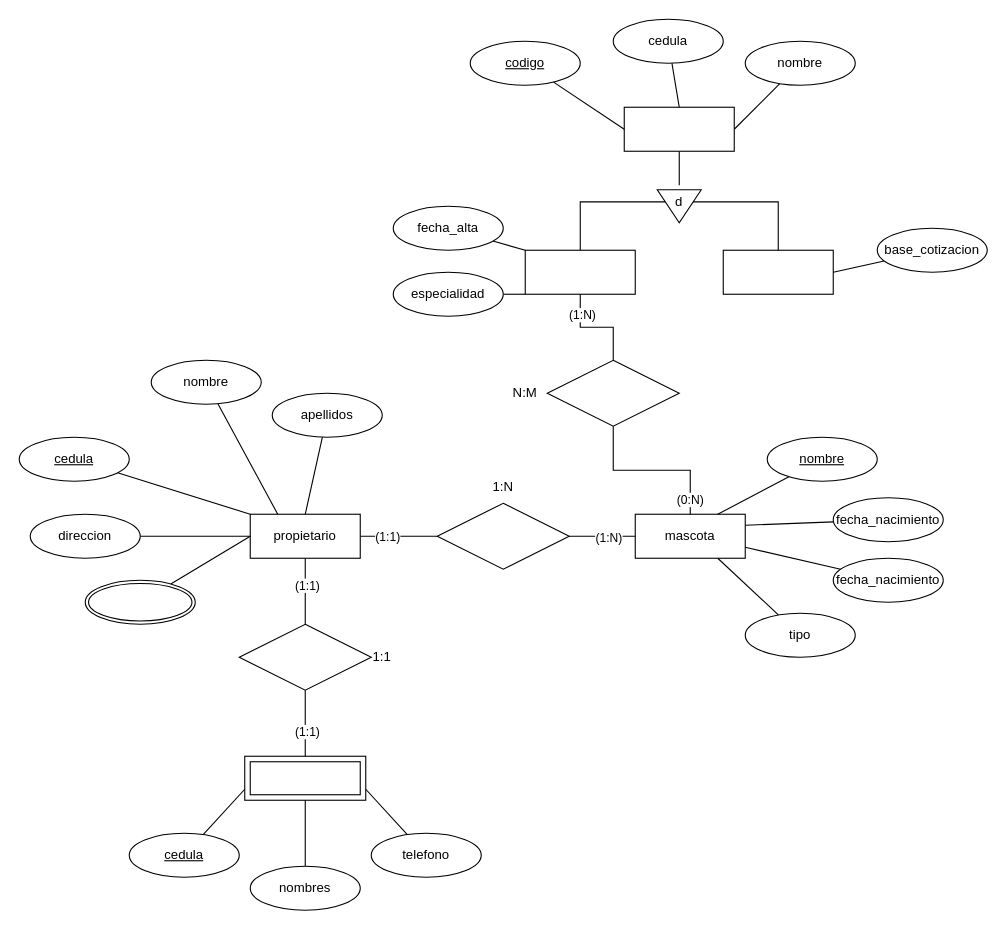
The diagram is 1007 pixels wide and 930 high, and some of its shapes have lost their labels. Here are the shapes that lost their labels. From the top down, the box of each, then its label:
(623, 106, 734, 151): personal_clinico
(524, 249, 635, 294): veterinario
(722, 249, 833, 294): auxiliar
(546, 359, 679, 426): pasa_consulta
(436, 502, 569, 569): lleva
(84, 579, 195, 624): telefonos
(238, 623, 371, 690): tiene
(244, 755, 366, 800): familiar_contacto
